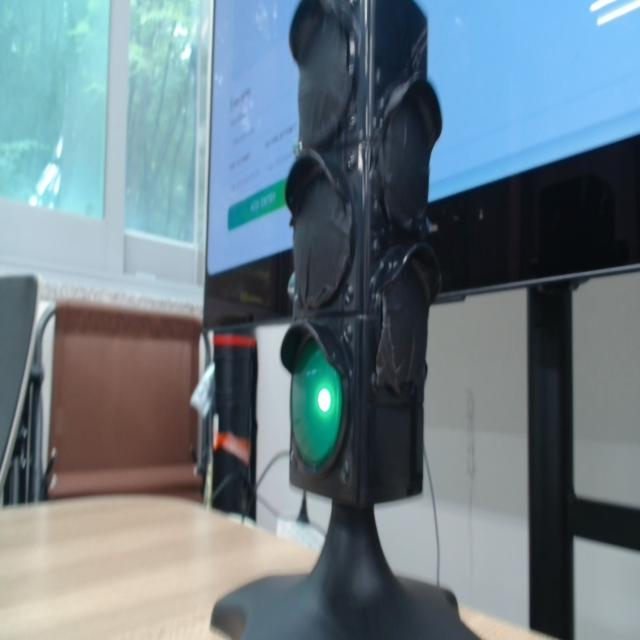green_light: (291, 341, 342, 466), (318, 388, 331, 413)
